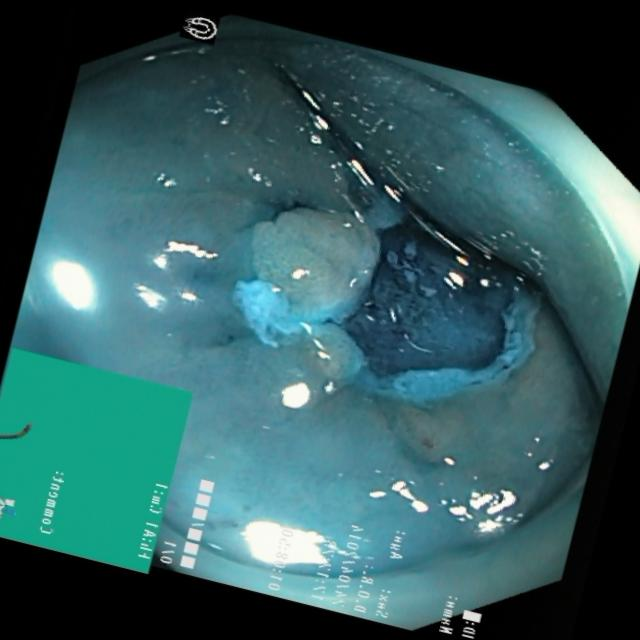dyed-resection-margins: (215, 175, 562, 428)
